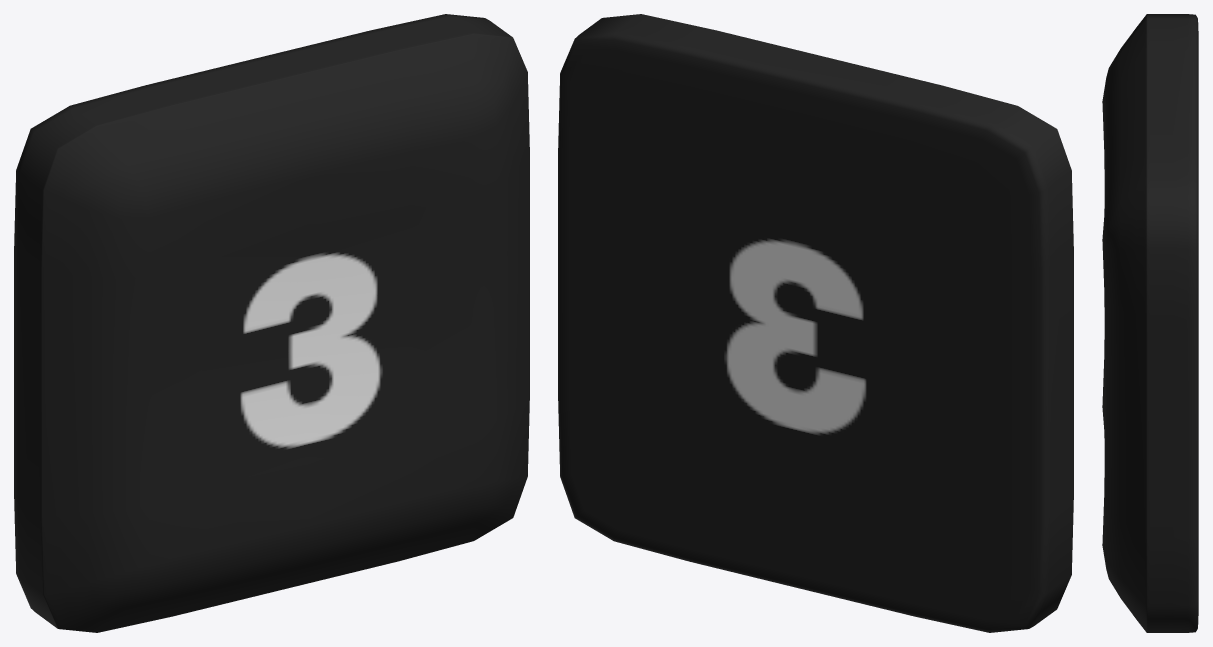
Rendered from Keypad_3.fbx.
3 renders of one model, left to right at view 1: azimuth 30°, elevation 25°; view 2: azimuth 150°, elevation 25°; view 3: azimuth 270°, elevation 25°, orthographic. The views are drawn at different scales.
Parts seen in each view (by area): view 1: Plane.011; view 2: Plane.011; view 3: Plane.011.
Boxes of the visible parts, x1,y1,x2,y2 form: Plane.011: [14, 14, 529, 632]; Plane.011: [558, 14, 1073, 632]; Plane.011: [1102, 14, 1198, 632].
Size of the model in its own units: 10 by 10 by 1.93.
1 material, 1 textured.
